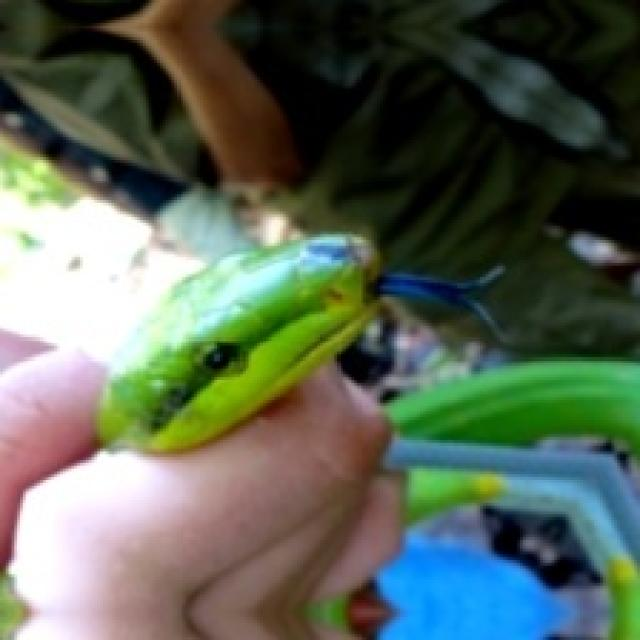red-tailed green ratsnake: (97, 234, 374, 449)
